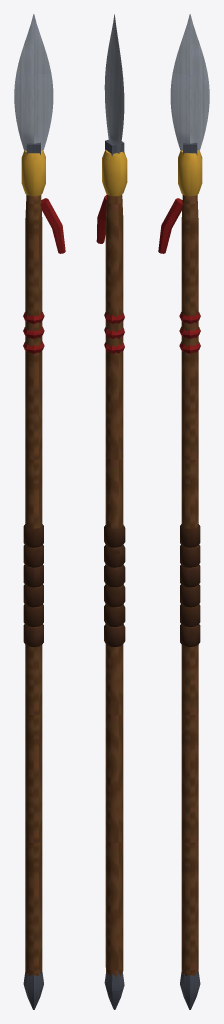
Rendered from war_spear.glb.
3 renders of one model, left to right at view 1: azimuth 90°, elevation 25°; view 2: azimuth 210°, elevation 25°; view 3: azimuth 270°, elevation 25°, orthographic.
Parts seen in each view (by area): view 1: war_spear; view 2: war_spear; view 3: war_spear.
Boxes of the visible parts, <box> form: war_spear: <box>14,14,65,1009</box>; war_spear: <box>96,14,127,1009</box>; war_spear: <box>158,14,209,1009</box>.
Bounding box in the file's own units: 0.054 × 2.34 × 0.1096.
Materials: 6 (6 with a texture image).
